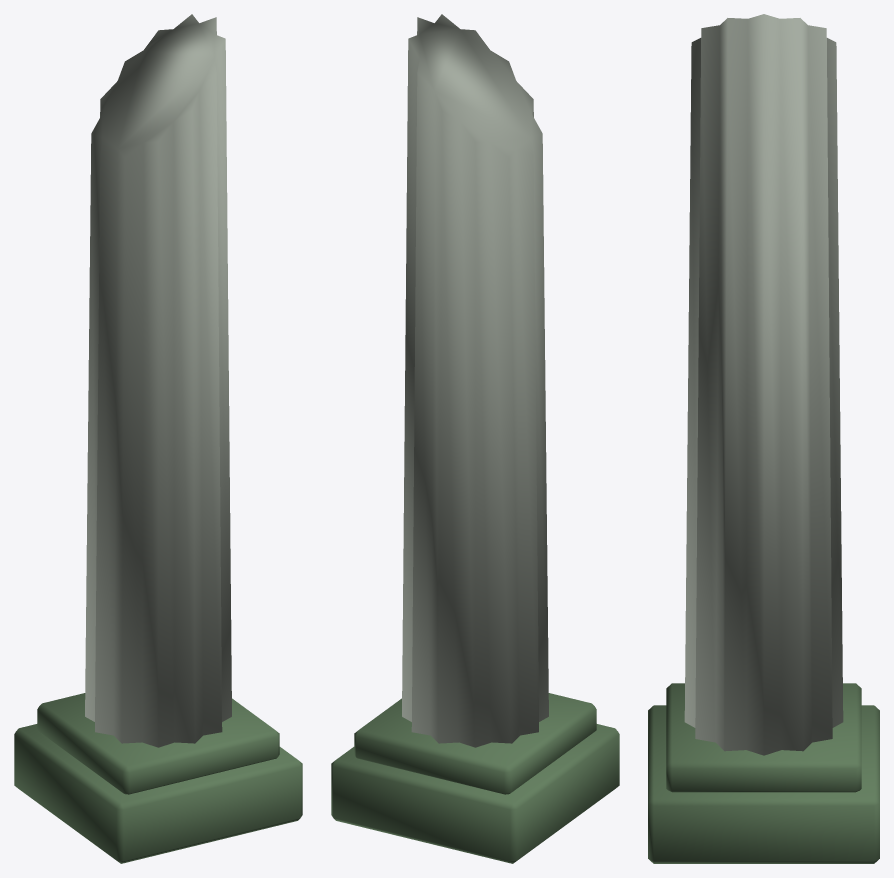
File: pillar.glb
3 views of the same model, side by side, from view 1: azimuth 30°, elevation 25°; view 2: azimuth 150°, elevation 25°; view 3: azimuth 270°, elevation 25° (orthographic). The views are drawn at different scales.
Parts seen in each view (by area): view 1: Pillar; view 2: Pillar; view 3: Pillar.
Boxes of the visible parts, left/top/right/bottom form: Pillar: left=14, top=14, right=302, bottom=863; Pillar: left=331, top=14, right=619, bottom=863; Pillar: left=648, top=14, right=879, bottom=863.
Bounding box in the file's own units: 1.6 × 6.35 × 1.6.
